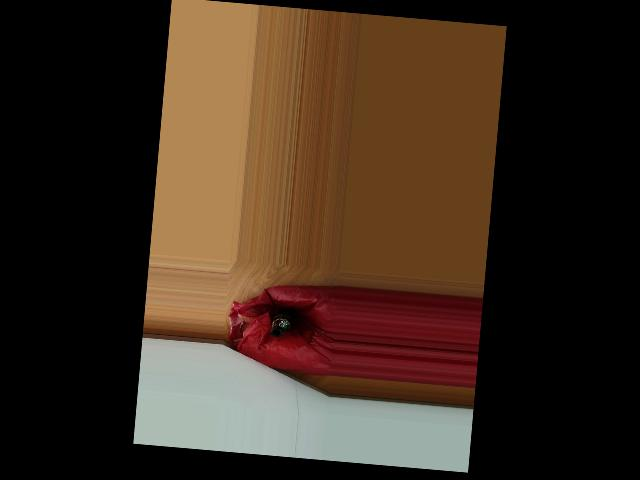beer: (270, 306, 296, 338)
